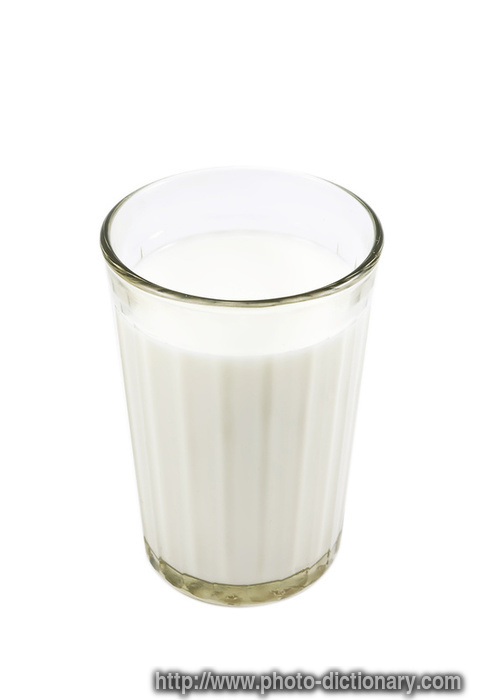glass of milk: (99, 156, 380, 608)
